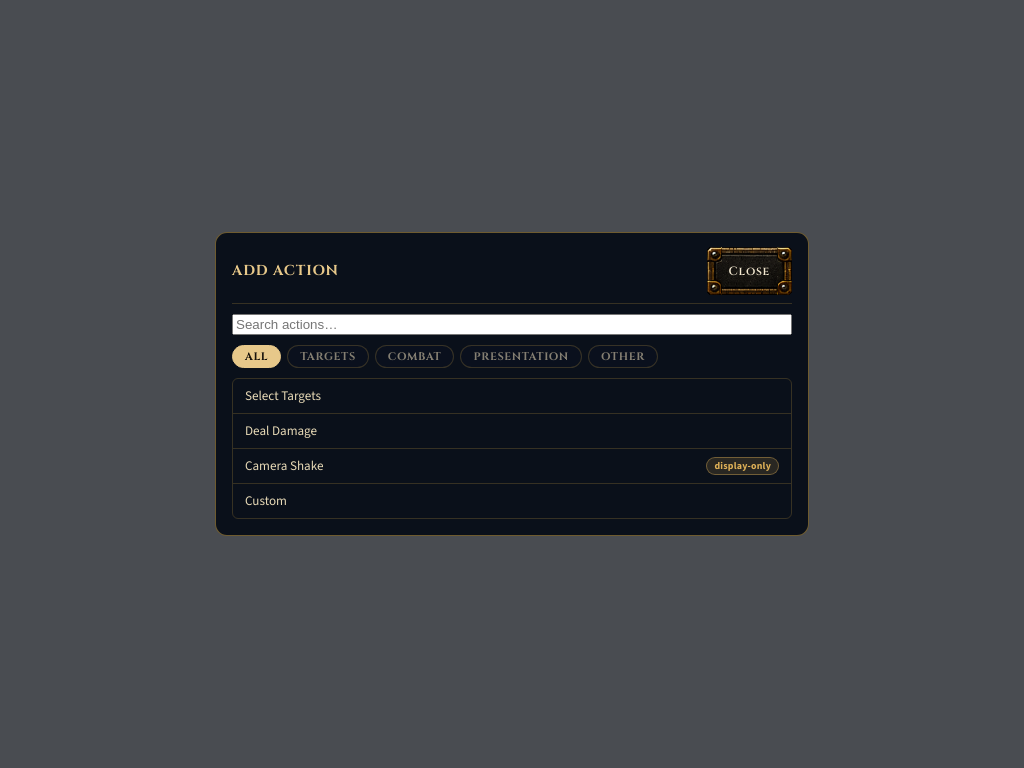
Scenario: AddActionDialog › filters entries by search text
The width and height of the screenshot is (1024, 768).
In the search field with test id "add-action-search": (512, 324) [232,314,792,335], type "damage"
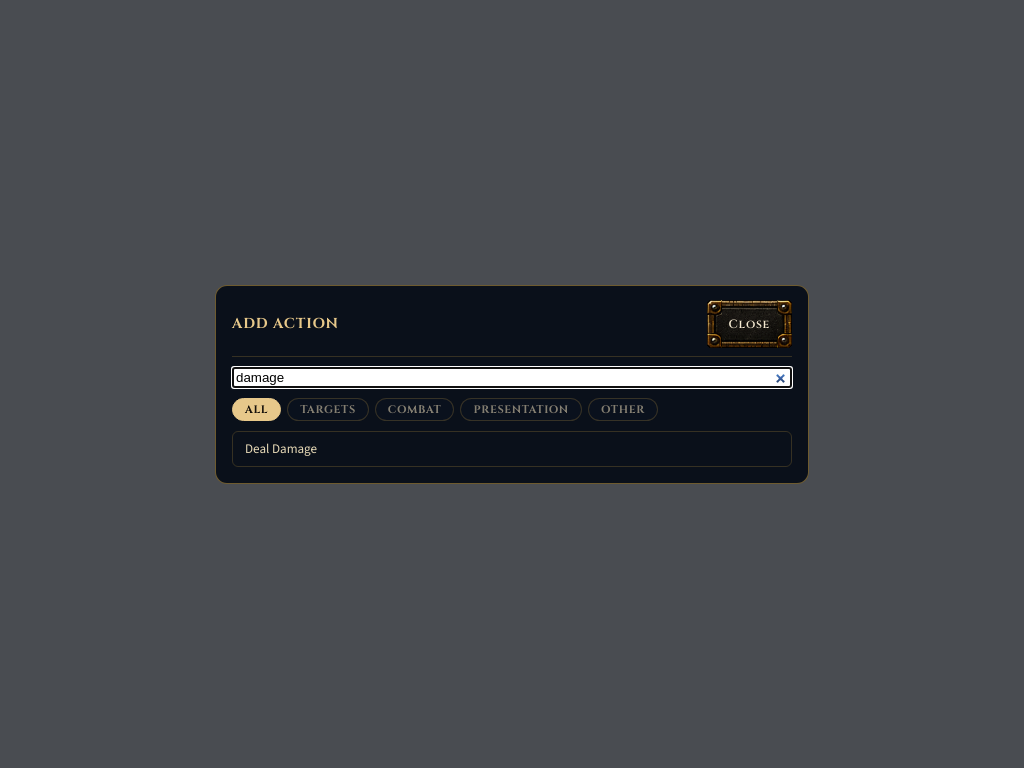
Check: the button with test id "add-action-entry" reads "Deal Damage", box [233,432,791,466]
Check: the number of buttons with test id "add-action-entry" is 1, box [233,432,791,466]
